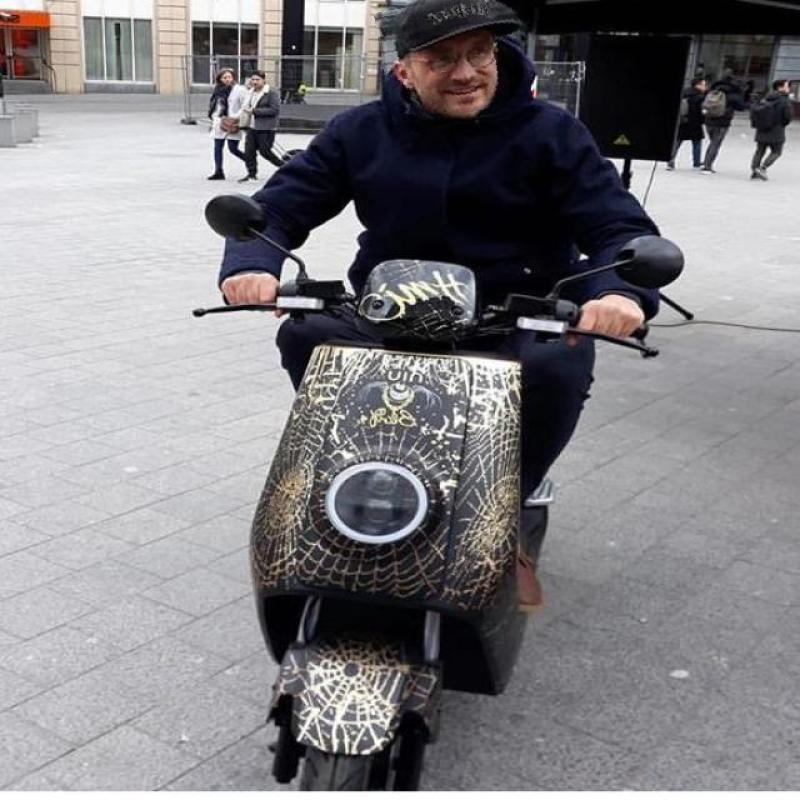nohelmet: (378, 0, 529, 119)
